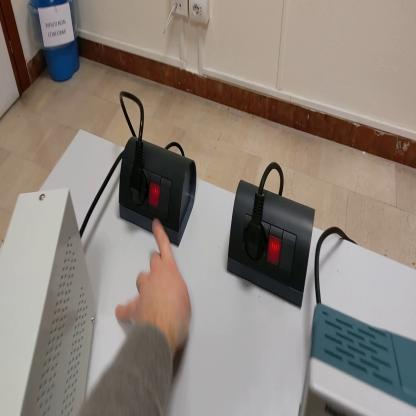hand: (116, 216, 194, 356)
oscilloscope: (303, 303, 416, 410)
power supply: (2, 189, 96, 414)
socket: (226, 177, 316, 312), (119, 138, 197, 249)
